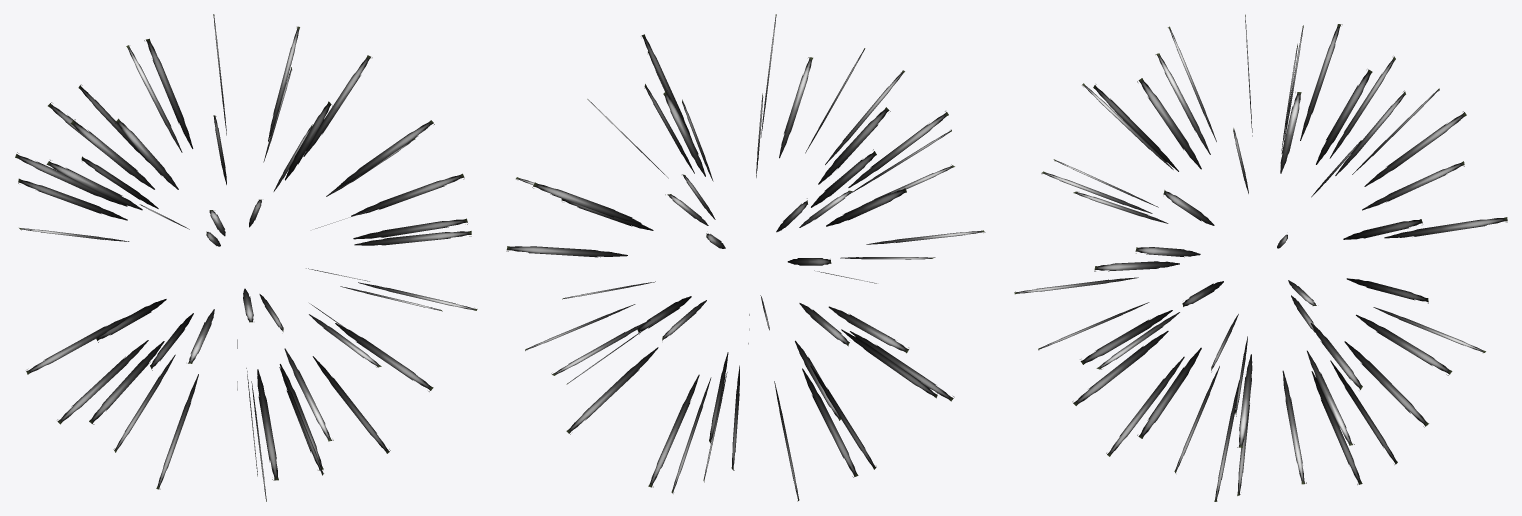
The picture shows the model from 3 angles, left to right: view 1: azimuth 30°, elevation 25°; view 2: azimuth 150°, elevation 25°; view 3: azimuth 270°, elevation 25°; orthographic projection.
Parts seen in each view (by area): view 1: T1L9M008_11; view 2: T1L9M008_11; view 3: T1L9M008_11.
Boxes of the visible parts, x1=… form: T1L9M008_11: x1=15, y1=14, x2=477, y2=501; T1L9M008_11: x1=506, y1=14, x2=985, y2=501; T1L9M008_11: x1=1014, y1=14, x2=1507, y2=501.
Size of the model in its own units: 3.85 by 3.83 by 3.94.
